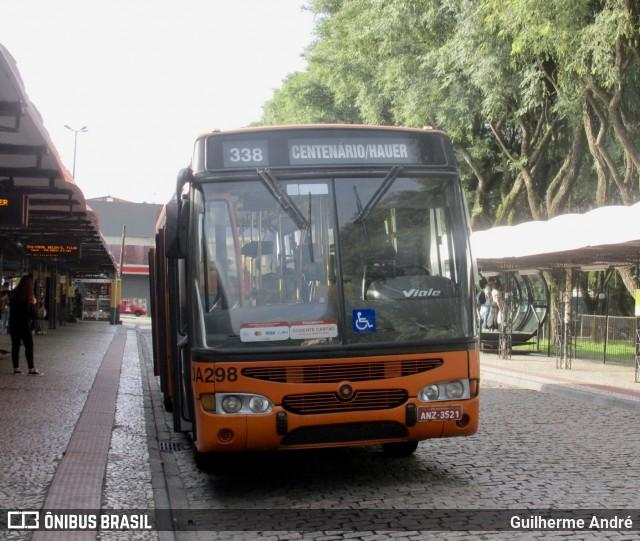CENTENARIO HAUER: (289, 139, 413, 161)
